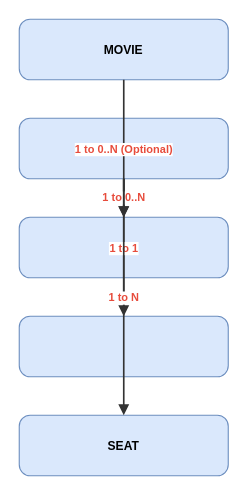
This 248x495 diagram has some shape labels left out. Each missing label, with the box of its shape:
HALL_EQUIPMENT: (18, 315, 228, 377)
SHOWTIME: (18, 216, 228, 278)
